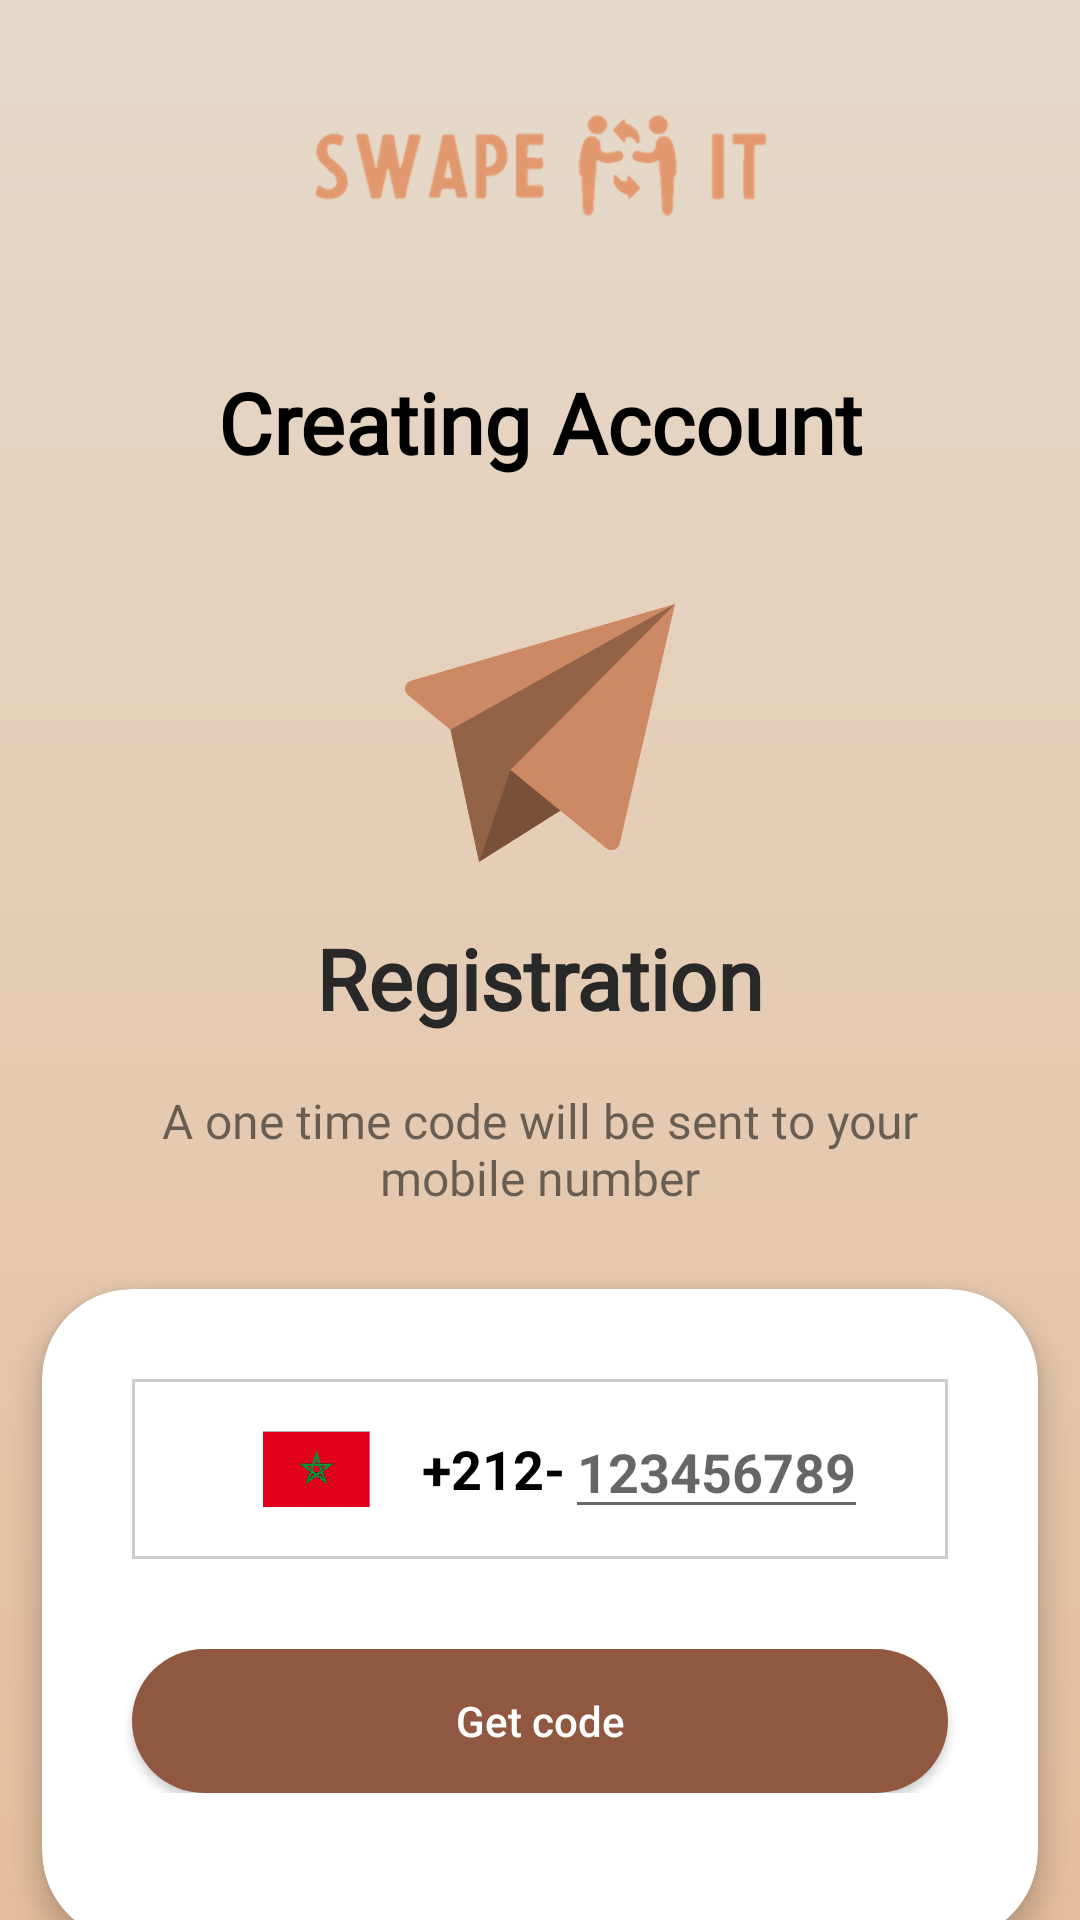

Where to tap for icons on this 1080w x 1920h app screen, as (x=x, y=y):
drapeau maroc: (x=316, y=1469)
send: (x=540, y=733)
